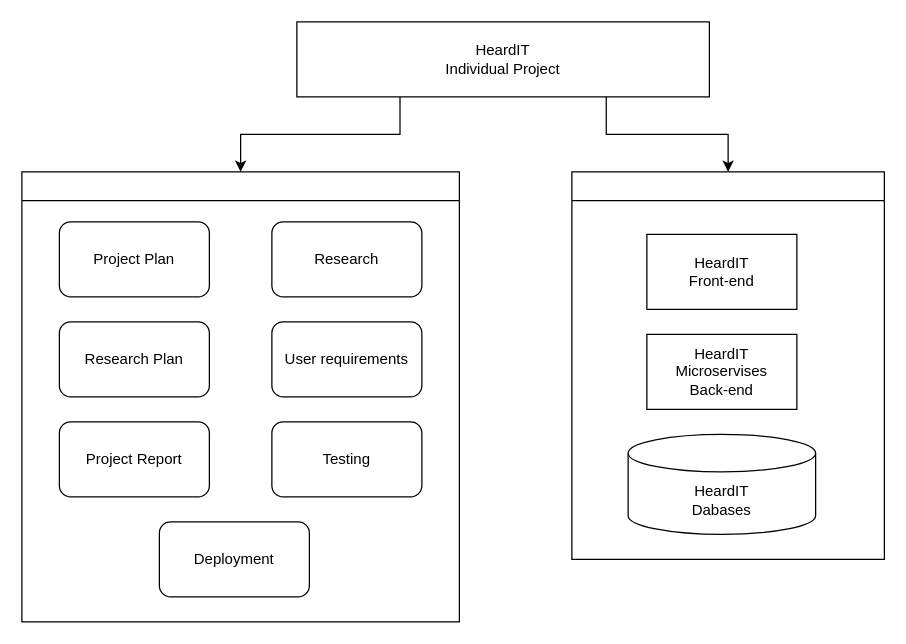
The diagram is 906 pixels wide and 644 high, and some of its shapes have lost their labels. Here are the shapes that lost their labels. From the top down, the centre of each, then its label:
point (727, 365): HeardIT Application
point (240, 396): HeardIT Documentation
